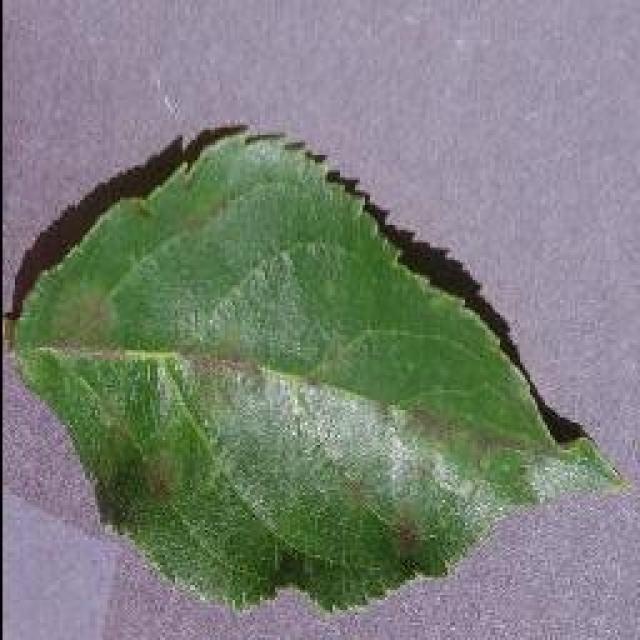apple scab disease: (8, 120, 628, 615)
